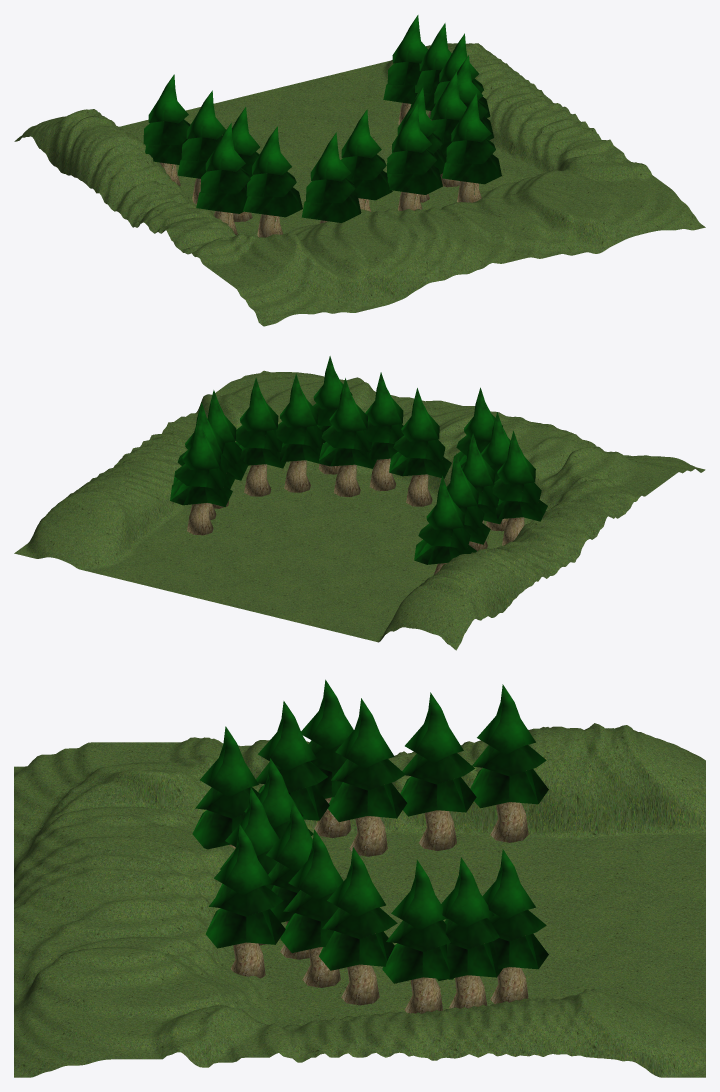
The model's file is ENV.fbx.
3 renders of one model, top to bottom at view 1: azimuth 30°, elevation 25°; view 2: azimuth 150°, elevation 25°; view 3: azimuth 270°, elevation 25°, orthographic. The views are drawn at different scales.
Visible parts, largest first — view 1: New_Terrain, Tree01; view 2: New_Terrain, Tree01; view 3: New_Terrain, Tree01.
Boxes of the visible parts, x1,y1,x2,y2 form: New_Terrain: (14,43,705,326); Tree01: (143,15,501,237); New_Terrain: (14,370,705,650); Tree01: (170,356,547,574); New_Terrain: (14,723,705,1077); Tree01: (192,679,548,1013).
Size of the model in its own units: 5109 by 1239 by 5000.
Materials: 2 (2 with a texture image).
